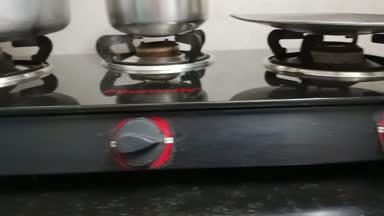flame_gas_off: (89, 26, 210, 179)
